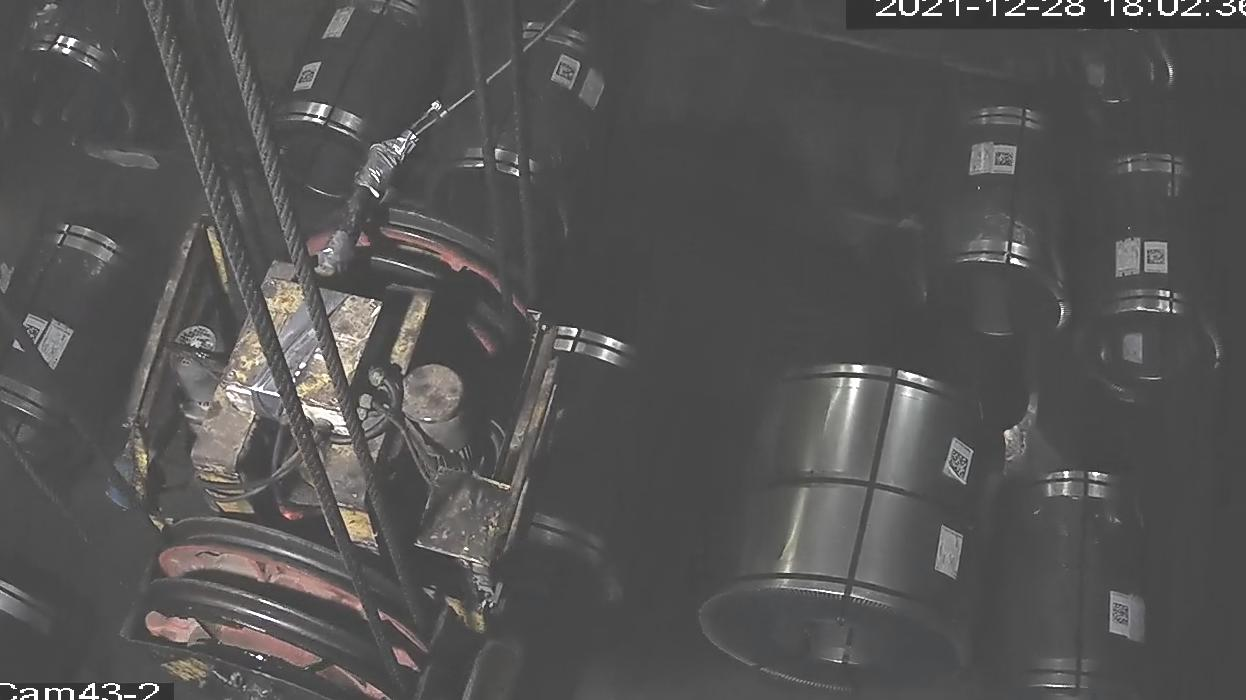data matrix: (943, 447, 974, 485), (1109, 601, 1134, 630), (555, 61, 580, 84), (1145, 248, 1168, 268), (993, 151, 1017, 169), (296, 69, 318, 85)
